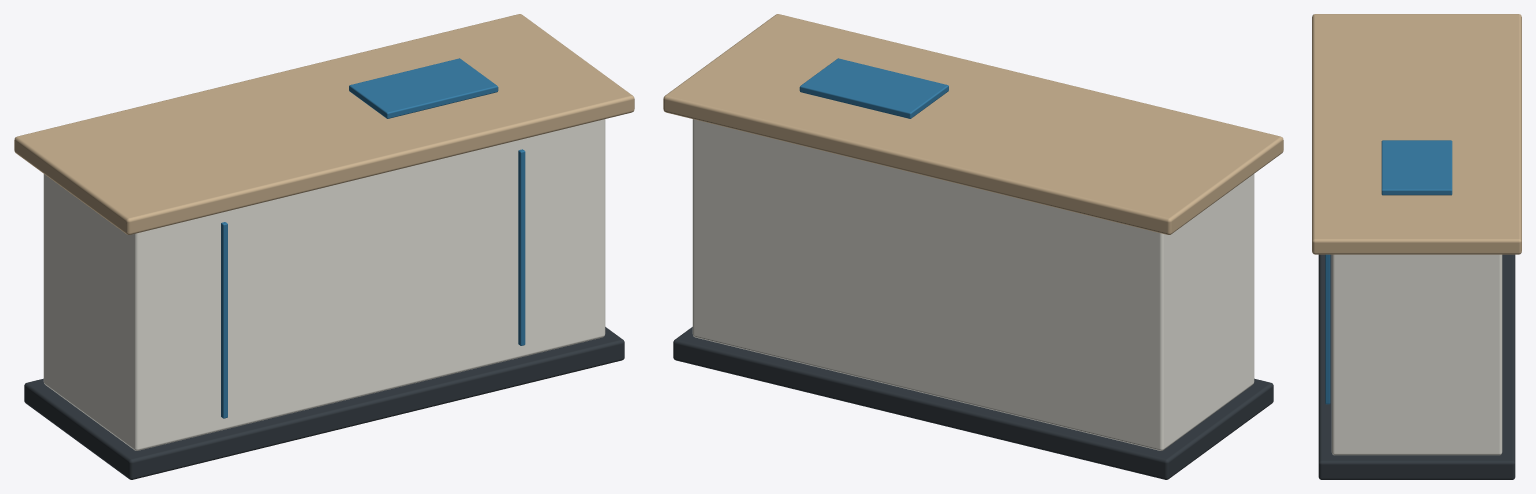
The model's file is curling-club-and-ice-maintenance-club-reception-counte-c6ed69b1__31306.glb.
The picture shows the model from 3 angles, left to right: view 1: azimuth 30°, elevation 25°; view 2: azimuth 150°, elevation 25°; view 3: azimuth 270°, elevation 25°; orthographic projection. The views are drawn at different scales.
Parts seen in each view (by area): view 1: club-reception-counter; view 2: club-reception-counter; view 3: club-reception-counter.
Boxes of the visible parts, x1,y1,x2,y2 form: club-reception-counter: (14, 14, 634, 479); club-reception-counter: (663, 14, 1283, 479); club-reception-counter: (1312, 14, 1521, 479).
Size of the model in its own units: 2.05 by 1.05 by 0.7999.
